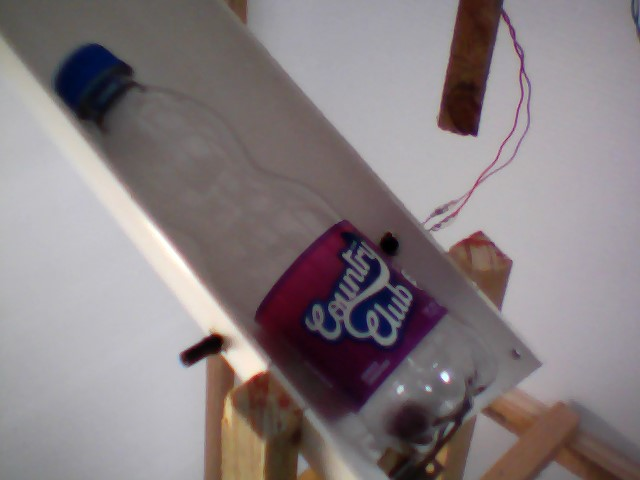plastico: (45, 35, 508, 480)
